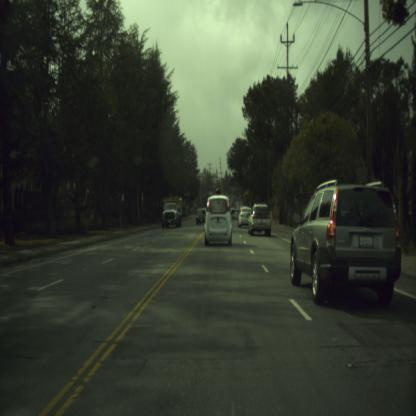Green: (232, 201, 234, 207)
